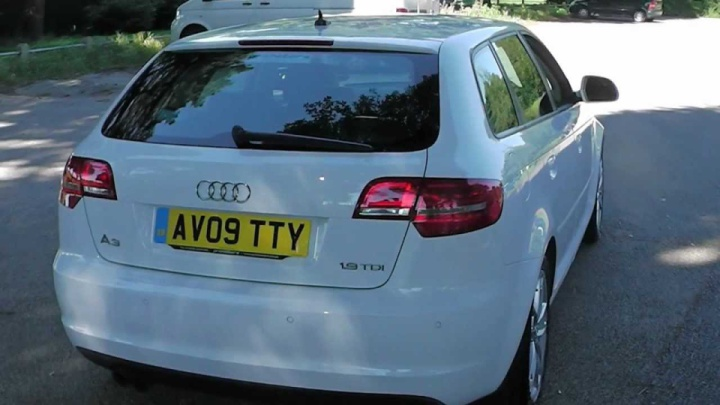audi: (183, 174, 261, 211)
